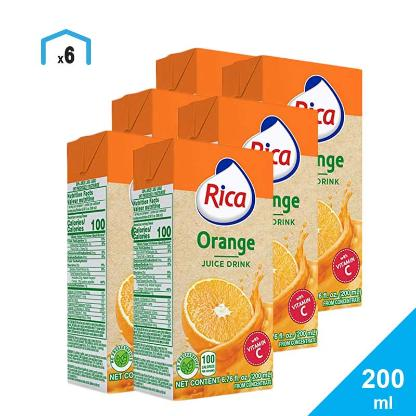Others: (137, 133, 275, 395), (64, 132, 132, 394)
